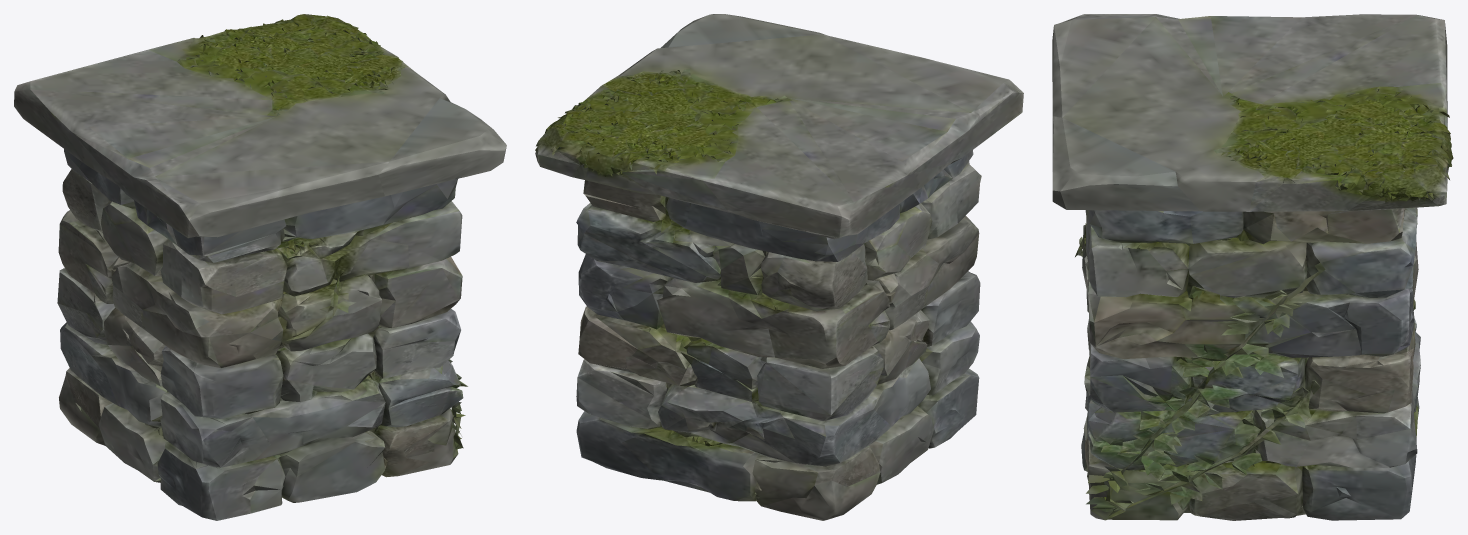
The model's file is wall-pil.glb.
3 views of the same model, side by side, from view 1: azimuth 30°, elevation 25°; view 2: azimuth 150°, elevation 25°; view 3: azimuth 270°, elevation 25° (orthographic). The views are drawn at different scales.
Visible parts, largest first — view 1: Mesh_0; view 2: Mesh_0; view 3: Mesh_0.
Part boxes in pixels (left/top/right/bottom): Mesh_0: left=14, top=14, right=506, bottom=520; Mesh_0: left=535, top=14, right=1023, bottom=520; Mesh_0: left=1052, top=14, right=1453, bottom=520.
Bounding box in the file's own units: 1 × 1 × 1.
Materials: 1 (1 with a texture image).
